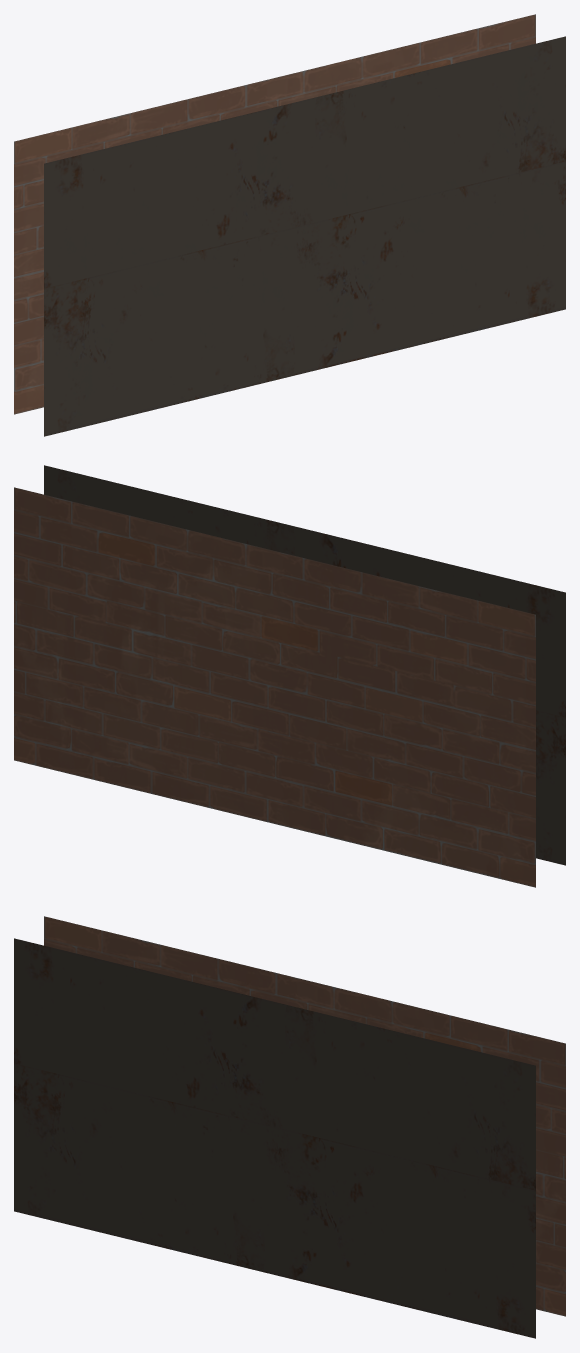
The model's file is q-downtown-metal-plain-1.glb.
The picture shows the model from 3 angles, top to bottom: view 1: azimuth 30°, elevation 25°; view 2: azimuth 150°, elevation 25°; view 3: azimuth 330°, elevation 25°; orthographic projection.
Visible parts, largest first — view 1: Metal_Plain_1; view 2: Metal_Plain_1; view 3: Metal_Plain_1.
Boxes of the visible parts, x1,y1,x2,y2 form: Metal_Plain_1: [14, 14, 565, 436]; Metal_Plain_1: [14, 465, 565, 887]; Metal_Plain_1: [14, 916, 565, 1338].
Size of the model in its own units: 2 by 1 by 0.2.
2 materials, 2 textured.
